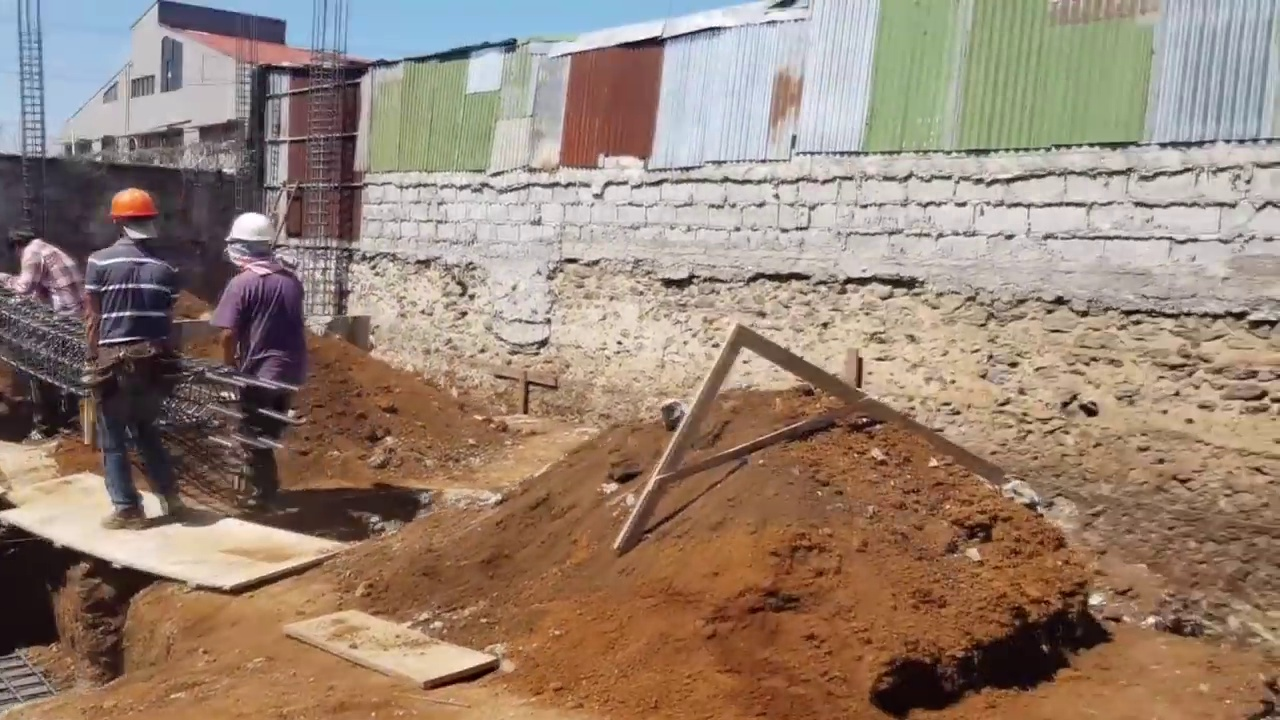helmet: (108, 189, 158, 228), (224, 210, 276, 246)
helmet-off: (2, 225, 35, 259)
helmet-on: (221, 210, 280, 272), (107, 190, 159, 247)
person: (81, 190, 177, 527), (208, 209, 307, 509), (0, 227, 78, 449)
